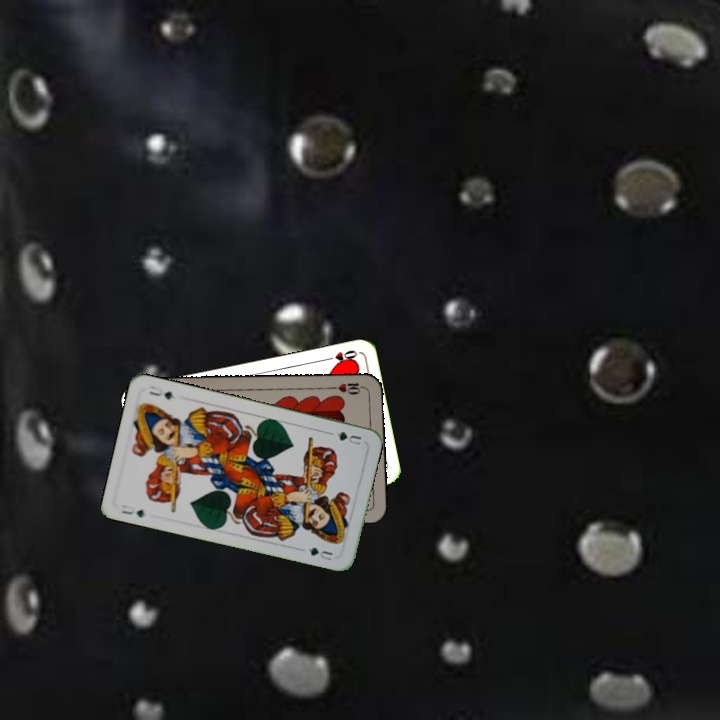GU: (333, 427, 364, 448), (117, 501, 147, 520)
H10: (328, 379, 368, 397)
HO: (320, 346, 360, 367)
